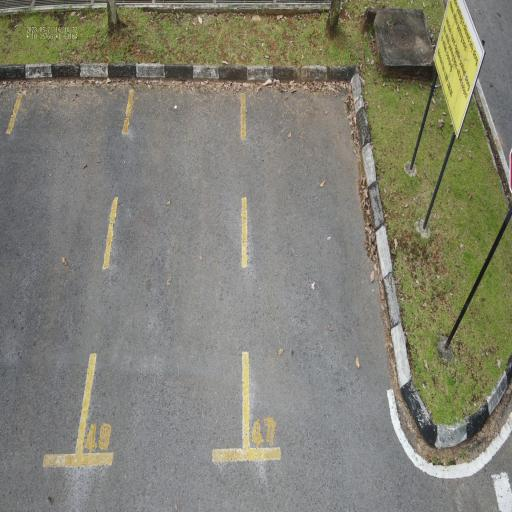Empty: (234, 74, 426, 472), (70, 77, 256, 474)
